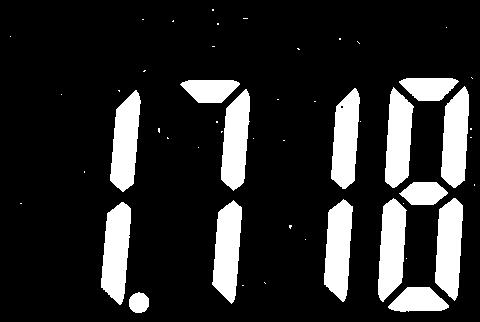1: (93, 84, 145, 308), (322, 87, 363, 302)
7: (177, 74, 254, 306)
8: (373, 74, 473, 313)
dot: (127, 287, 153, 314)
